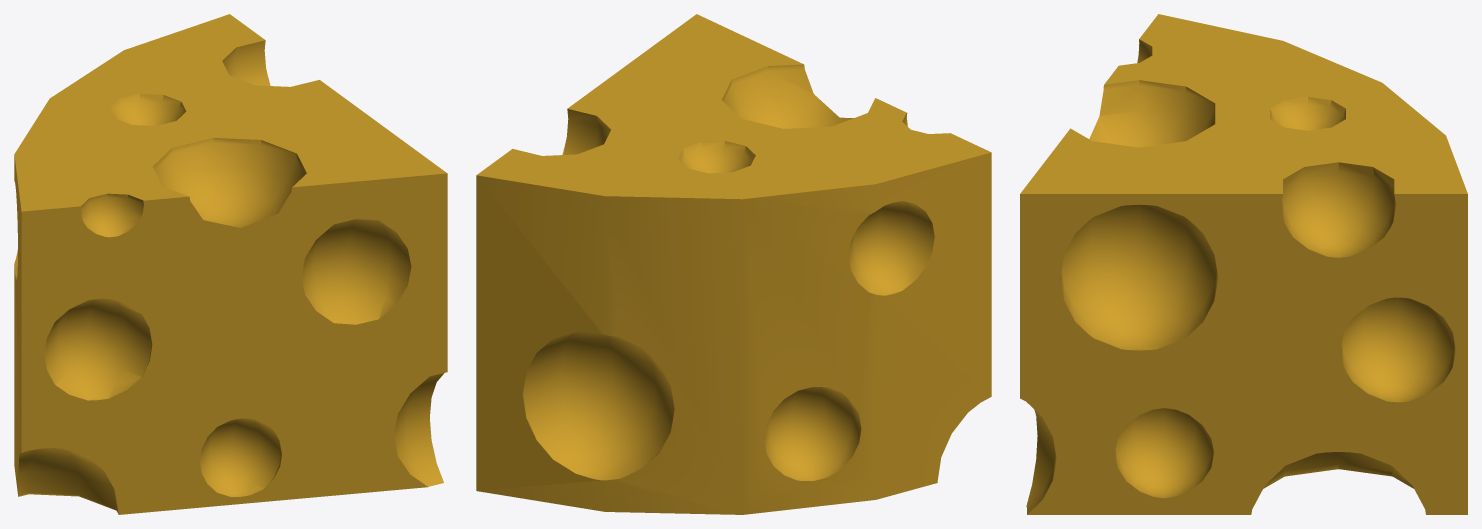
File: cheese.fbx
The picture shows the model from 3 angles, left to right: view 1: azimuth 30°, elevation 25°; view 2: azimuth 150°, elevation 25°; view 3: azimuth 270°, elevation 25°; orthographic projection. The views are drawn at different scales.
Parts seen in each view (by area): view 1: cheese; view 2: cheese; view 3: cheese.
Part boxes in pixels (x1,y1,x2,y2): cheese: (14, 14, 447, 514); cheese: (476, 14, 991, 514); cheese: (1020, 14, 1467, 514).
Bounding box in the file's own units: 85.6 × 71.15 × 90.
